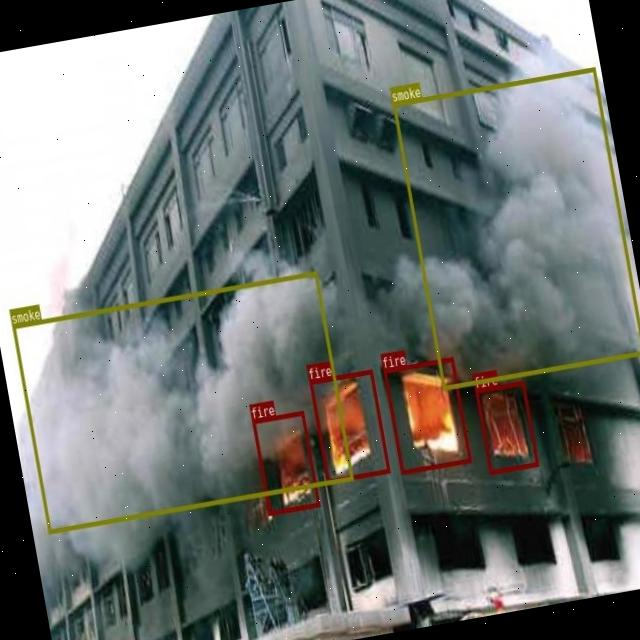fire: (382, 356, 470, 474), (308, 368, 389, 482), (251, 409, 319, 514), (474, 380, 538, 473)
smoke: (11, 270, 352, 532), (392, 65, 640, 388)
